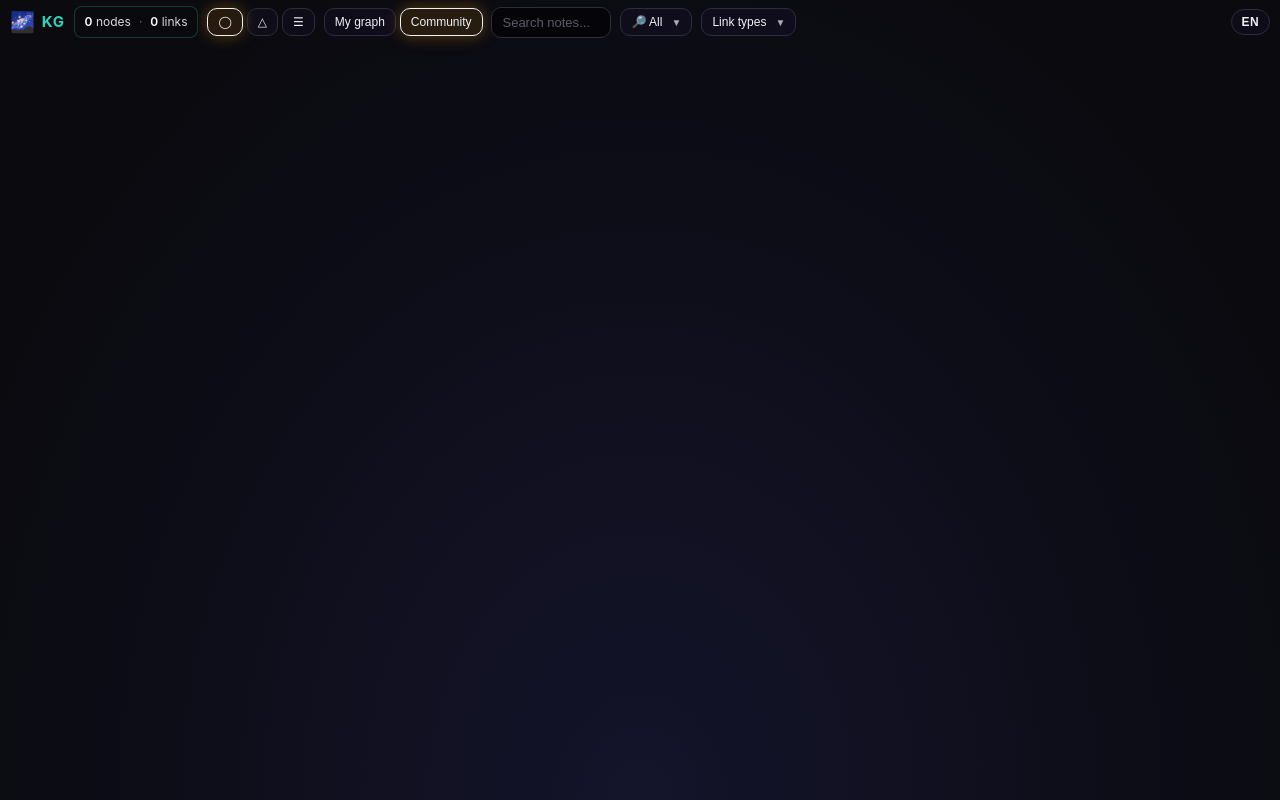
Test: GraphTopBar › displays type counts in dropdown
Click the button with test id "type-dropdown-toggle".
click(656, 22)  # box [620,8,692,36]
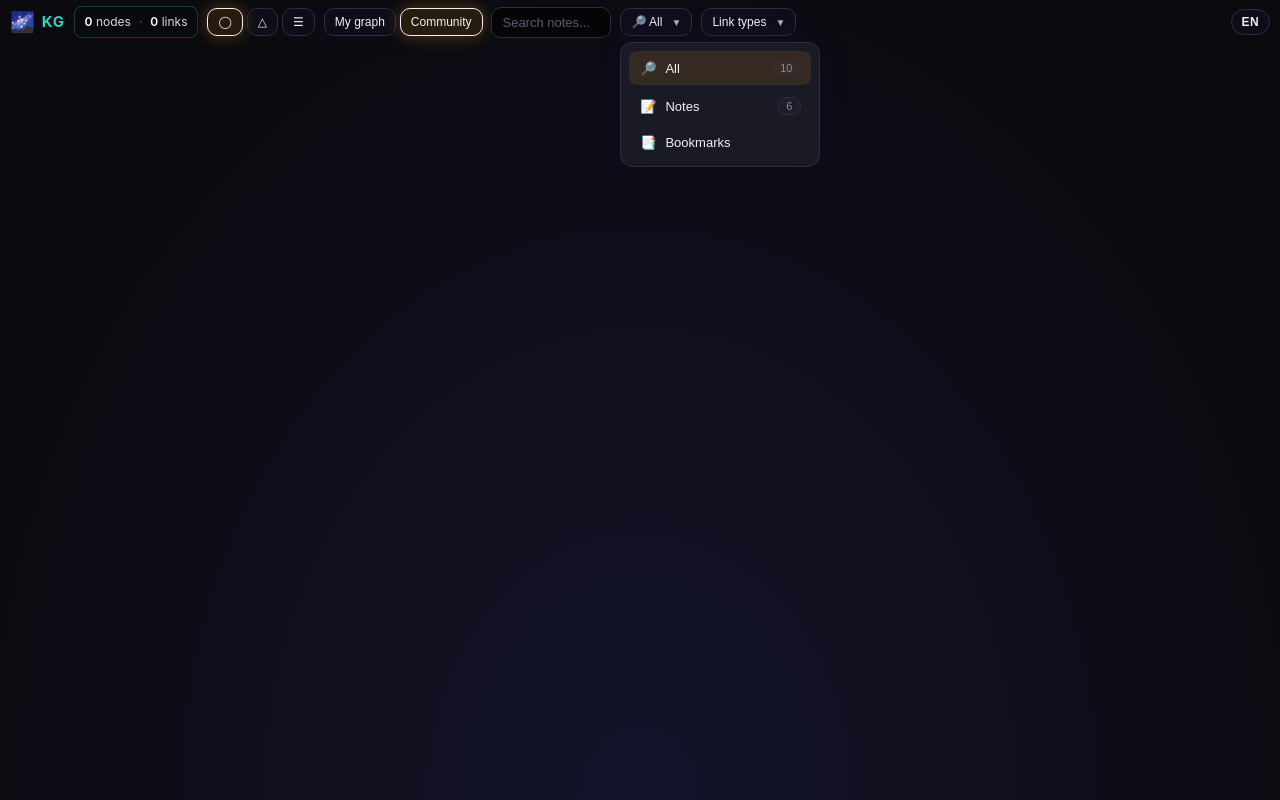
Now the button with test id "filter-chip-all" shows "10", box [629,51,811,85]
